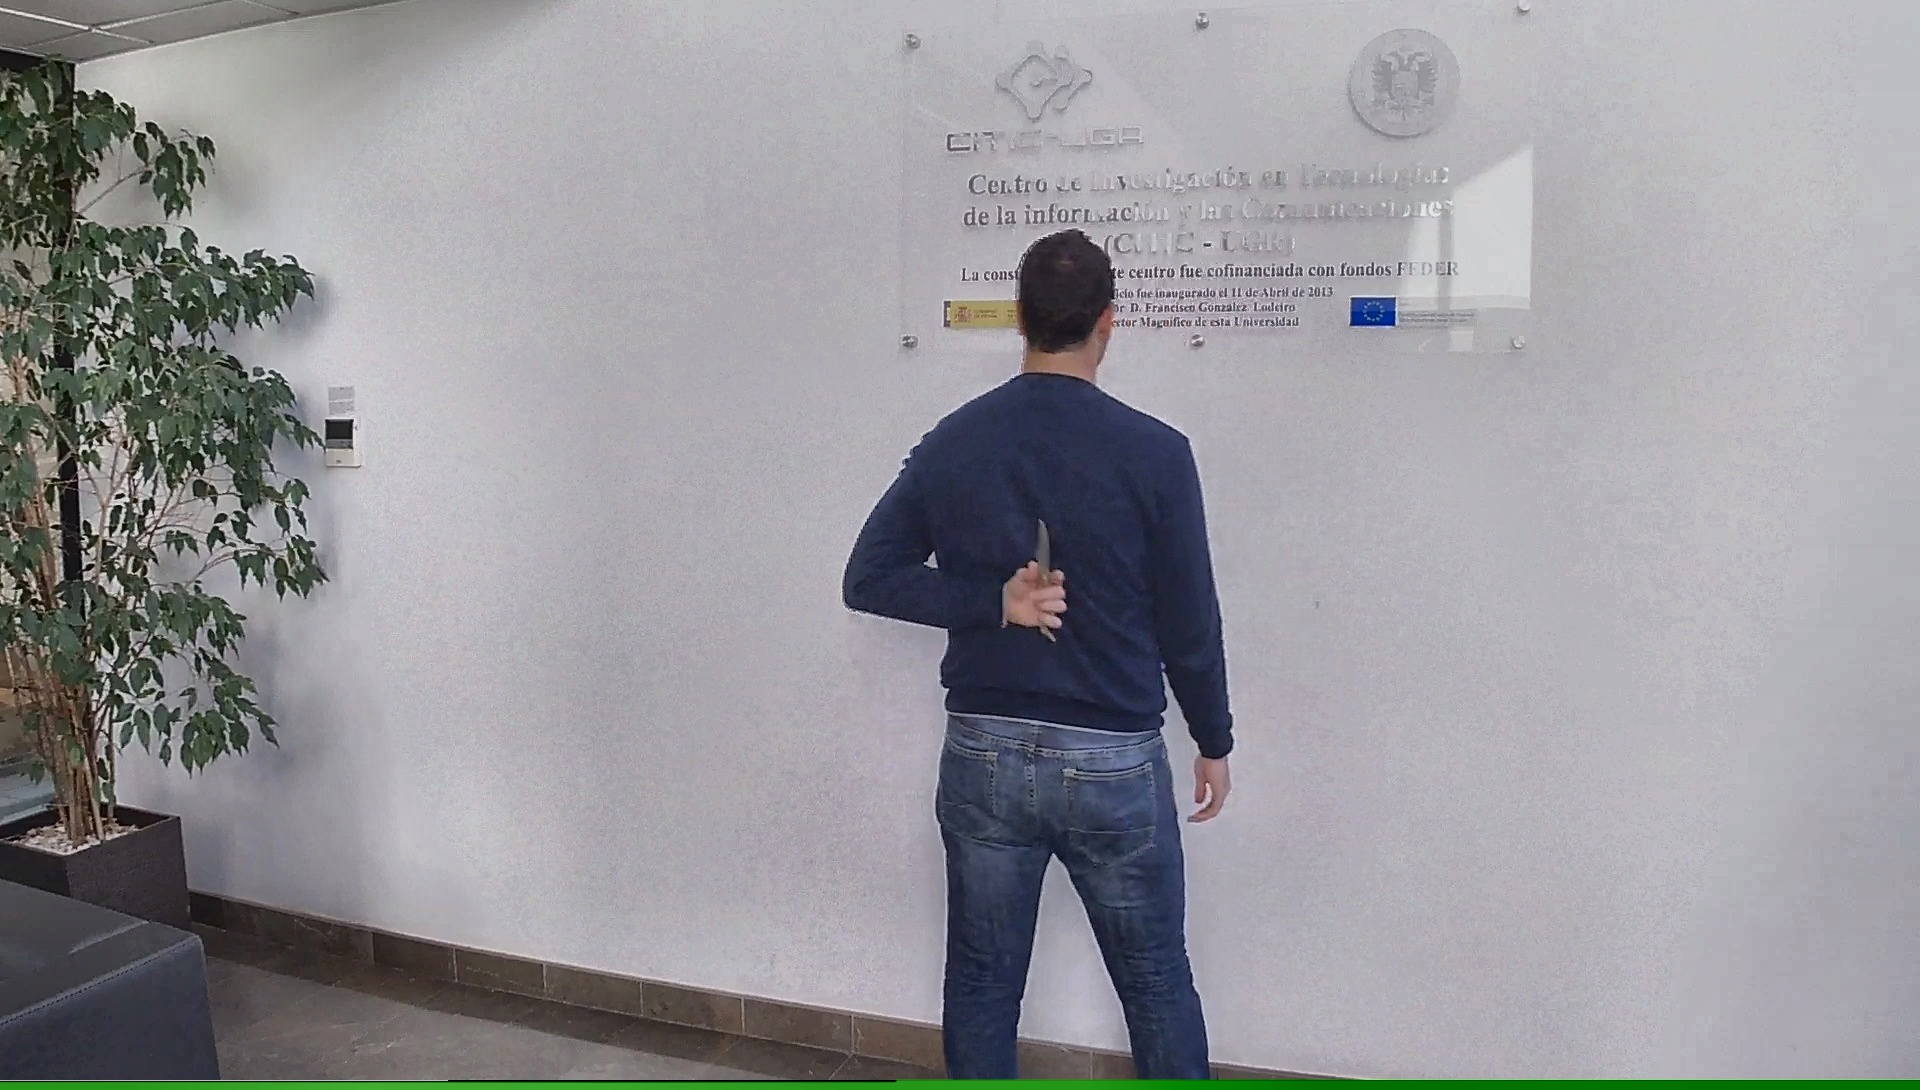knife: (1023, 510, 1077, 643)
